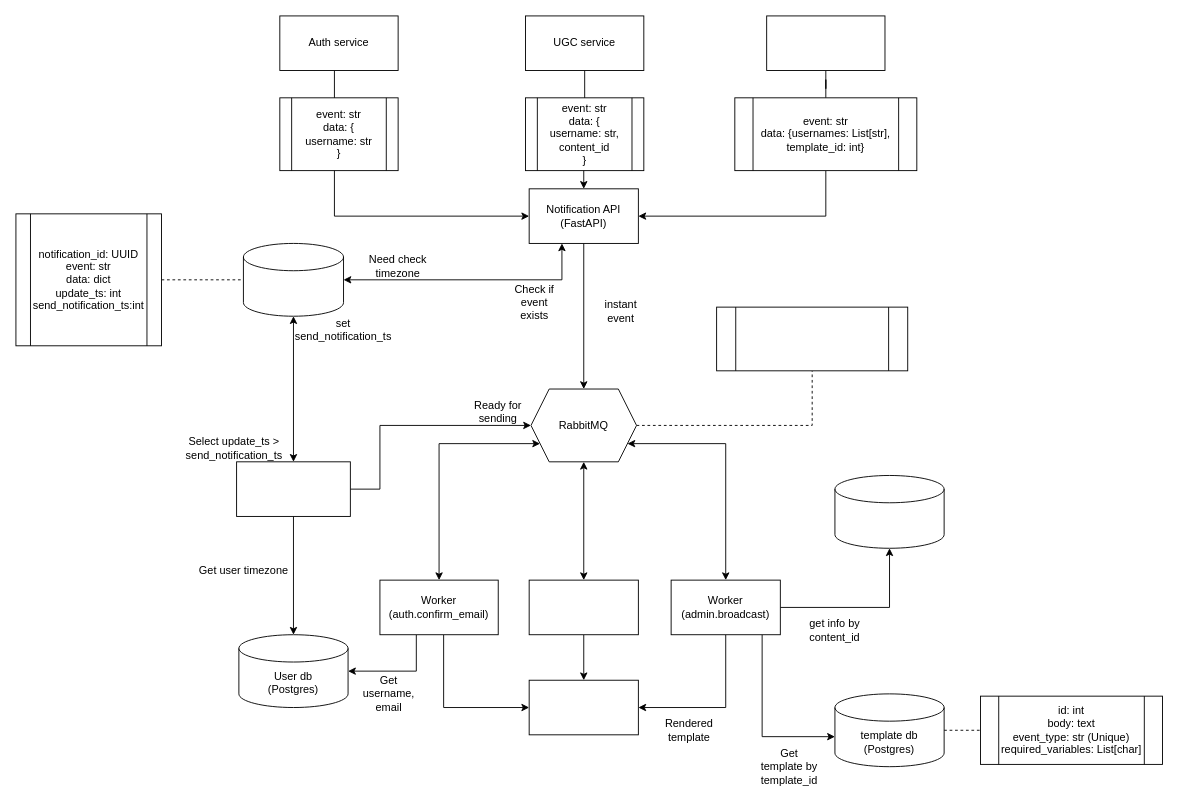
This 1178x802 diagram has some shape labels left out. The shapes that lost their labels are listed below. From the top down, each one's centre as x and y in pixels, then its label:
(825,43): Admin Panel
(293,279): Mongo
(812,338): user_id: UUID data: dict
(293,488): sheduler (Script run by crone)
(889,511): Film db (Postgres)
(583,607): Worker (UGC.like_added)
(583,707): Mail service (GRPC server)
